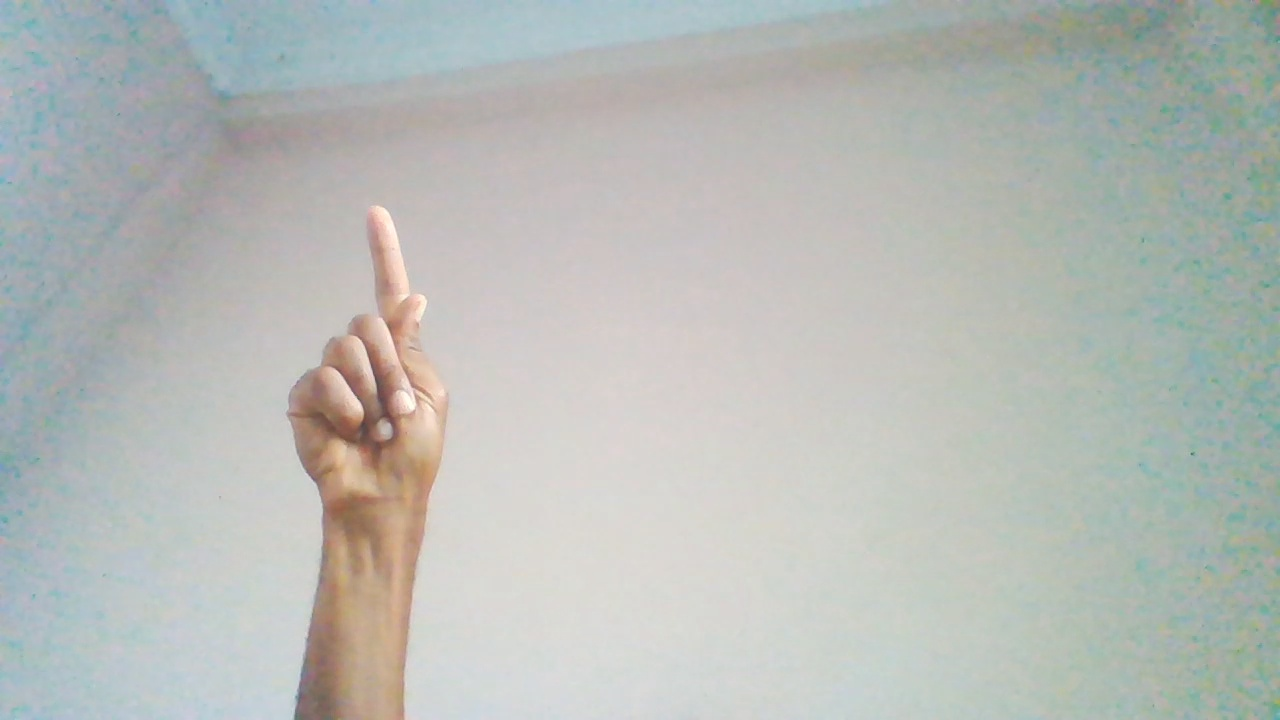ne: (289, 207, 455, 567)
